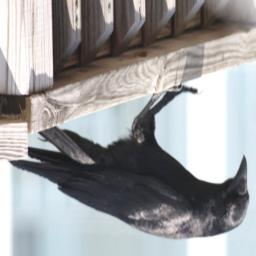Crow: (7, 85, 250, 241)
